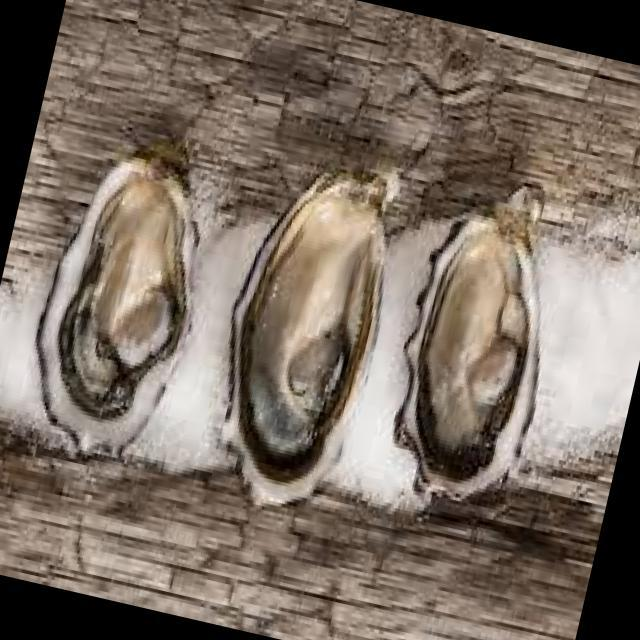Oyster-Open: (232, 176, 385, 503), (38, 158, 195, 456), (398, 186, 541, 496)
